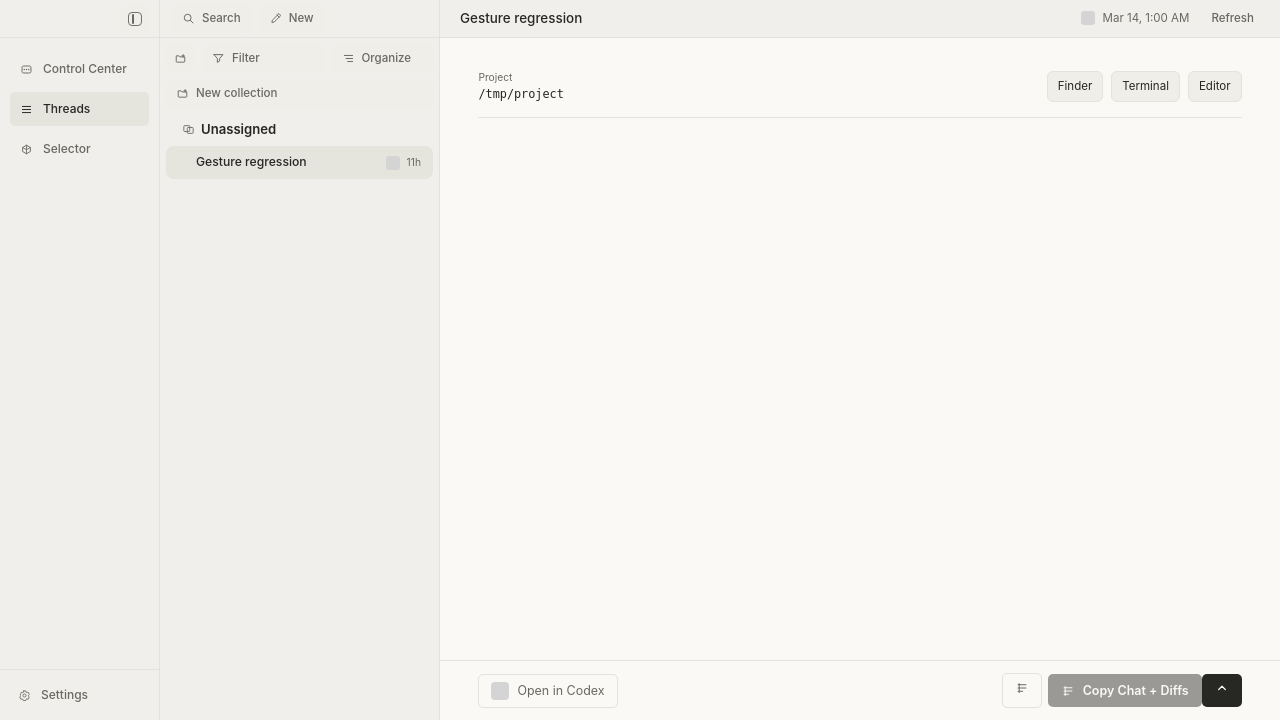
Test: Handoff App › creates a new collection from the threads sidebar and places it first
The width and height of the screenshot is (1280, 720).
Click the button "New collection" at [237, 93], box [166,79,433,107]
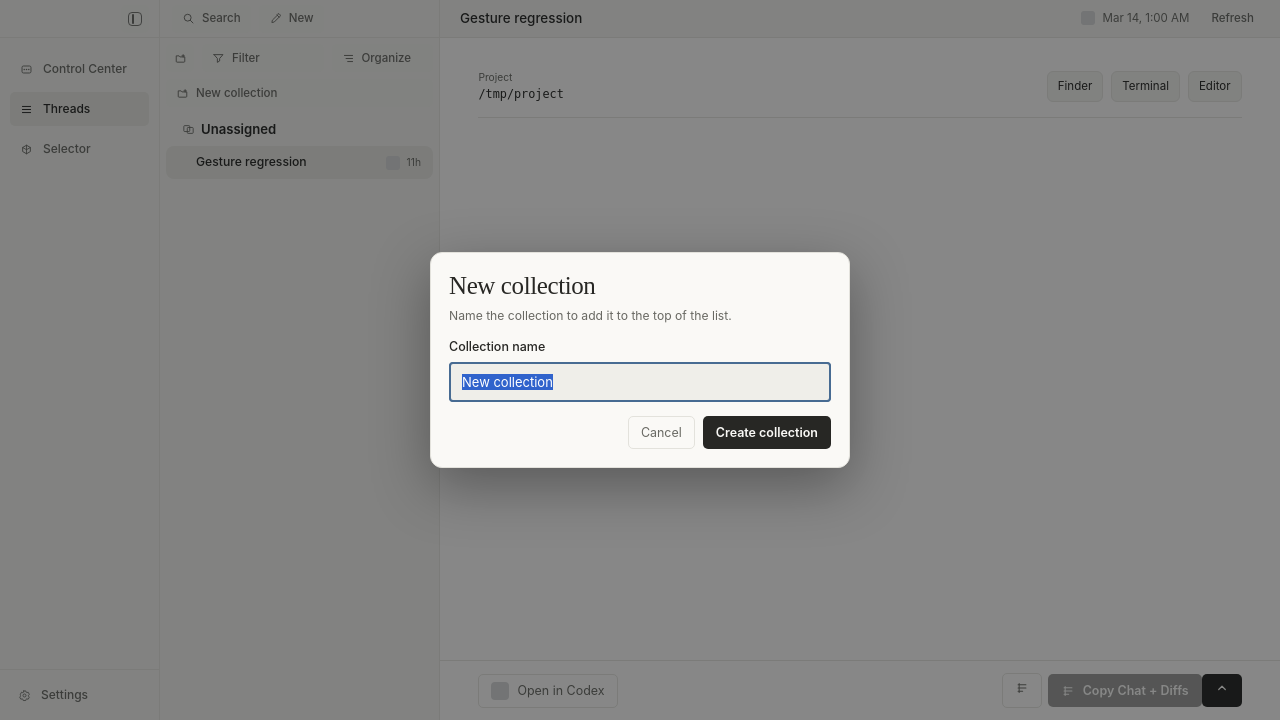
Check: the dialog named "Create collection" is shown
Replace the text in the field labelled "Collection name" with "Launch blockers" at [640, 382], box [449,362,831,402]
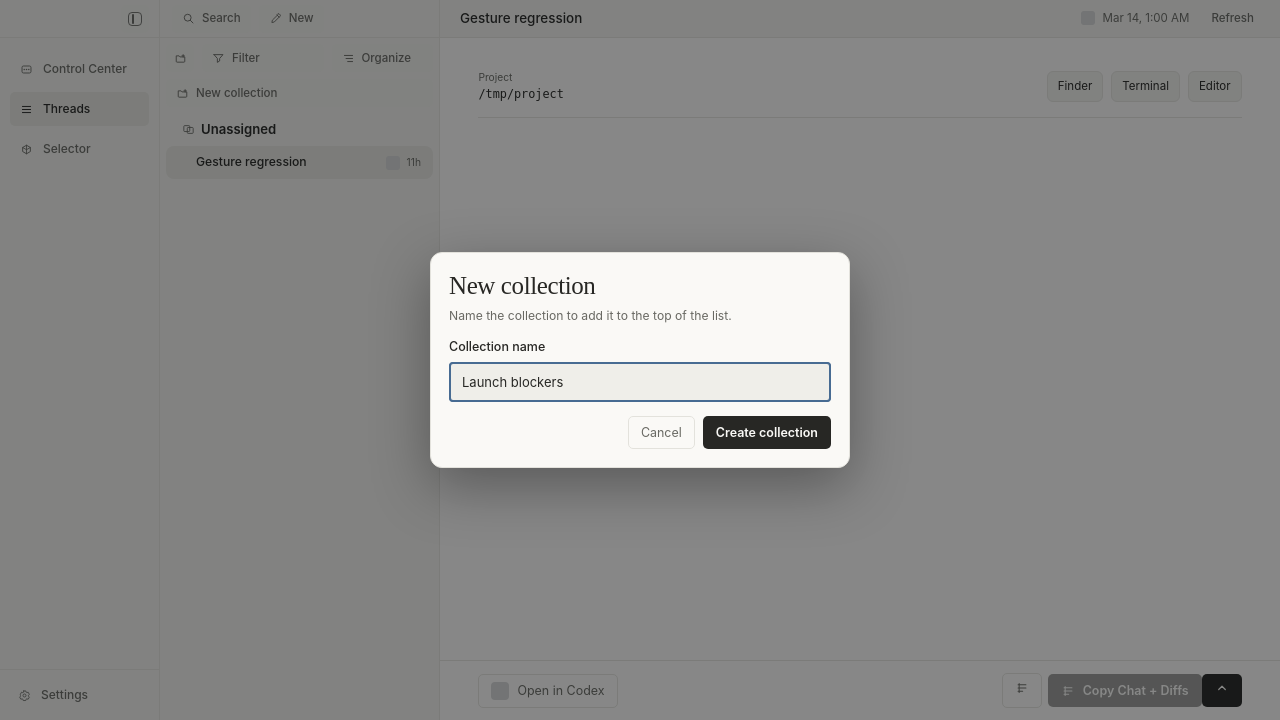
Click the button "Create collection" at [767, 433], box [703,416,831,449]
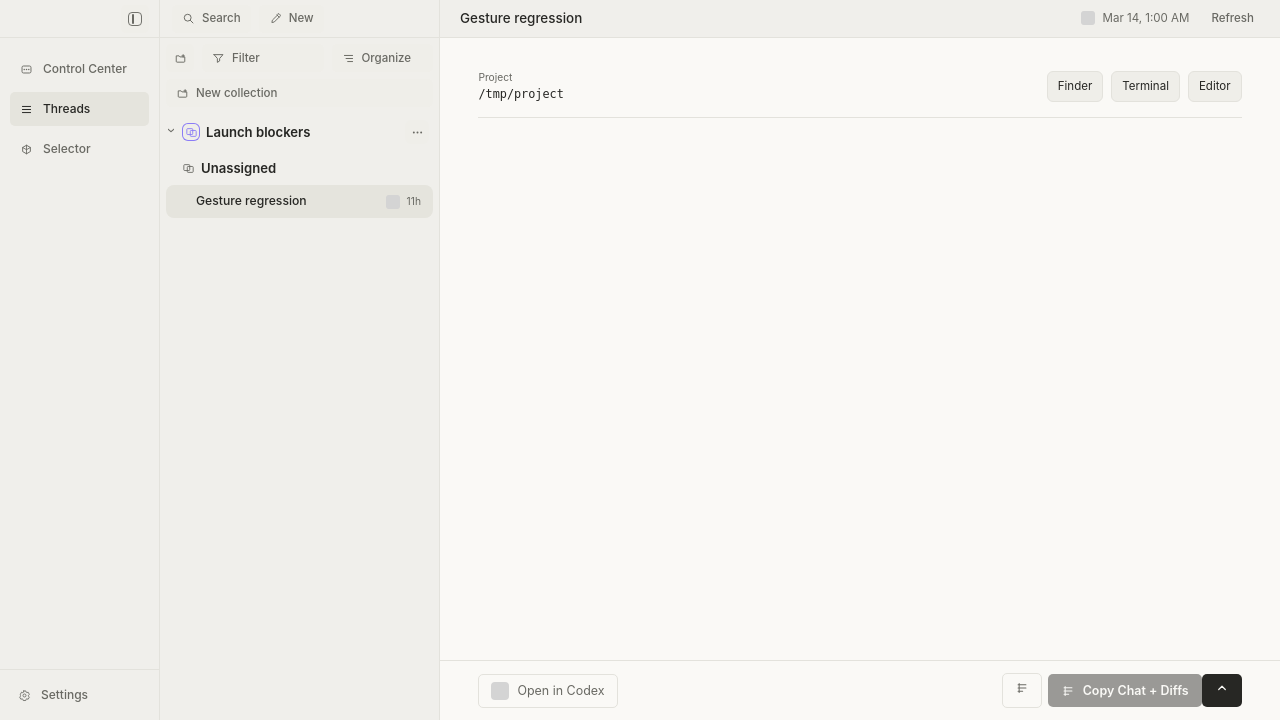
Check: the text "Launch blockers" is shown, box [206,123,310,141]
